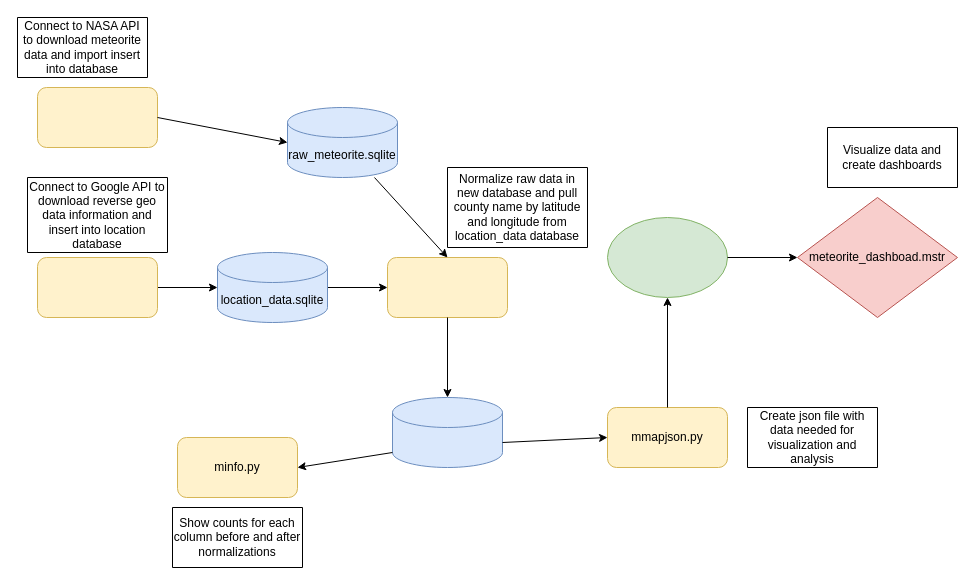
Image size: 975x585. Some labels were removed from this diagram. The centre of each missing label's shape, as x and y in pixels:
dw_meteorite.sqlite: (x=447, y=432)
loadgeo.py: (x=97, y=287)
mload.py: (x=97, y=117)
mmap.json: (x=667, y=257)
mnormal.py: (x=447, y=287)
